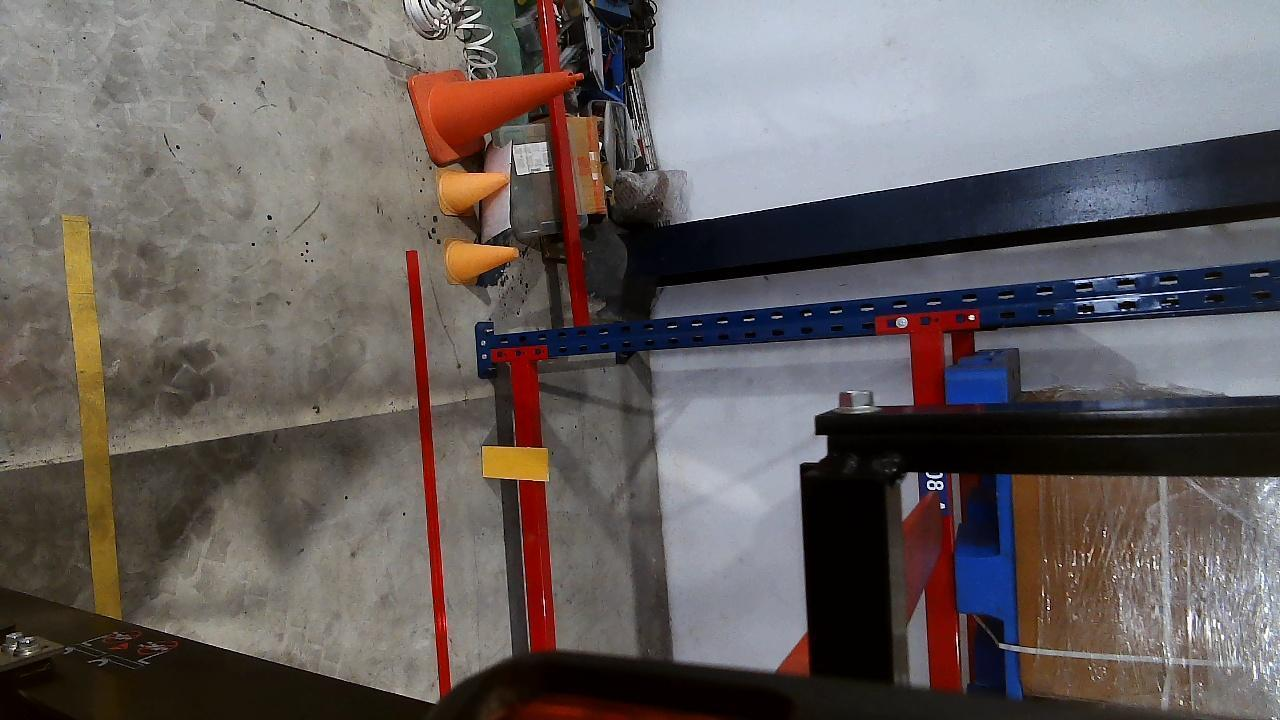red_line: (407, 250, 452, 682)
yellow_line: (58, 215, 119, 619)
